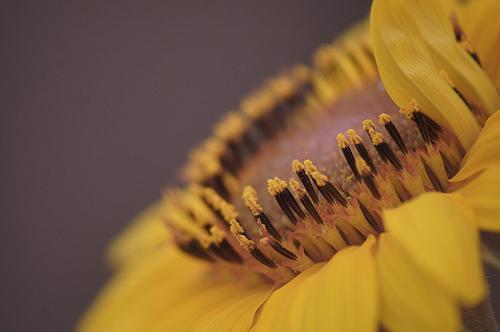sunflower: (85, 0, 500, 332)
